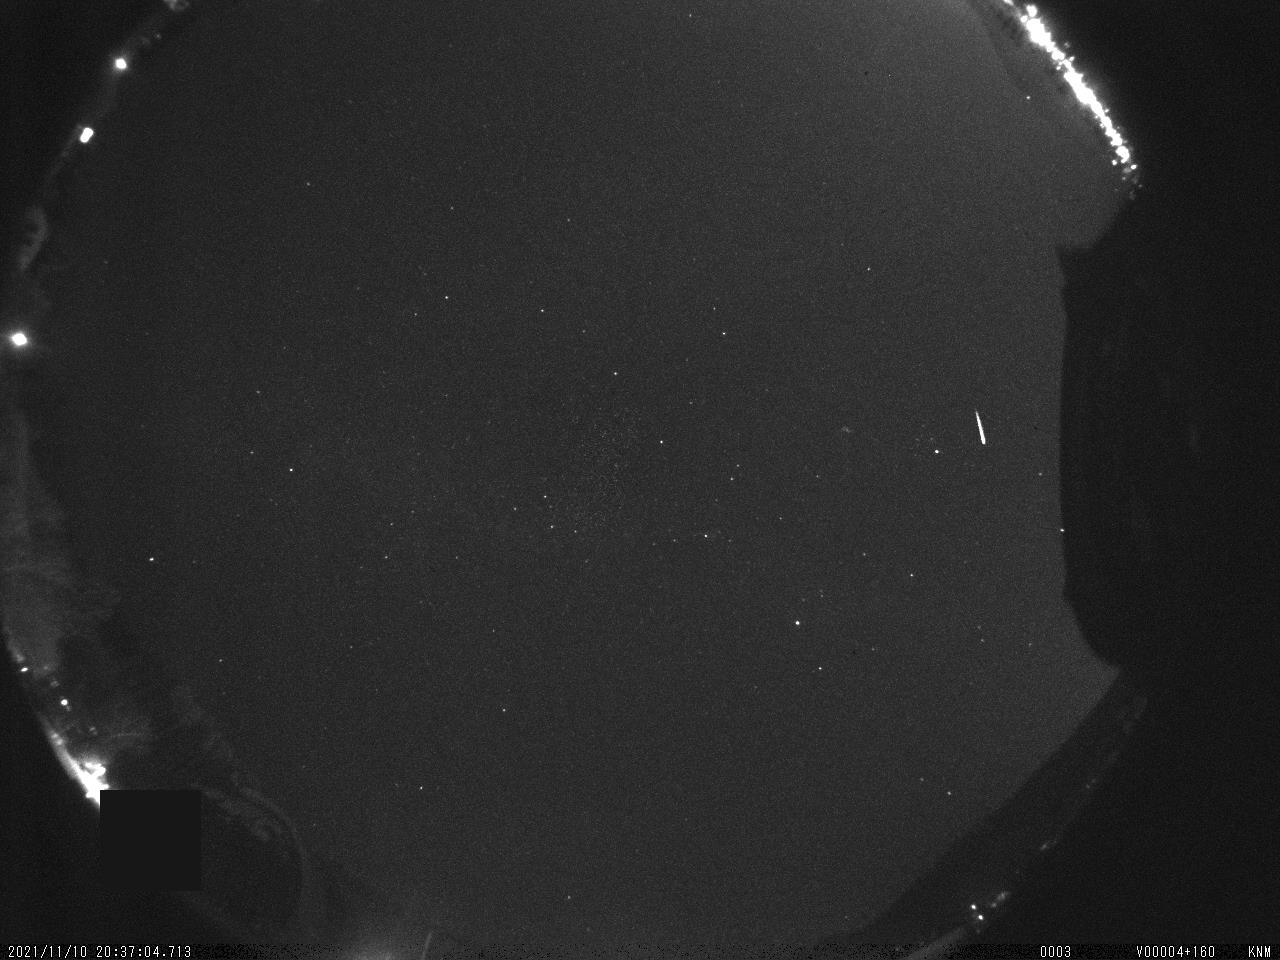meteor: (946, 389, 1013, 471)
